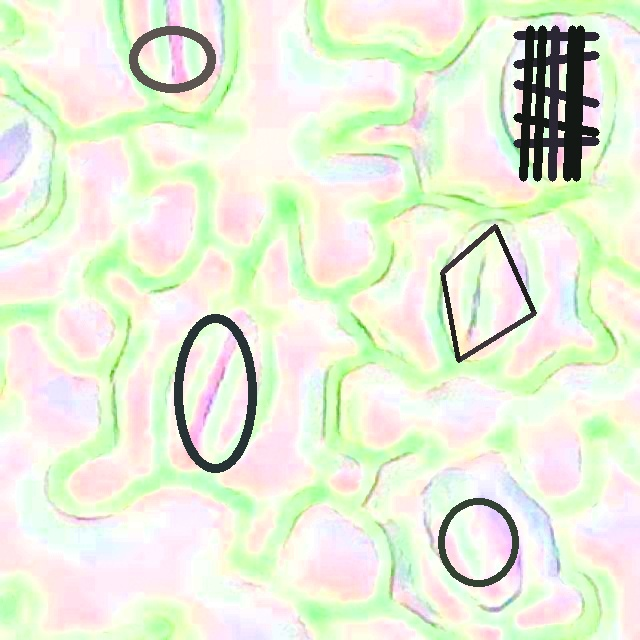close: (438, 498, 519, 586)
open: (172, 314, 257, 473), (513, 25, 599, 181), (440, 224, 535, 362), (129, 26, 216, 92)
